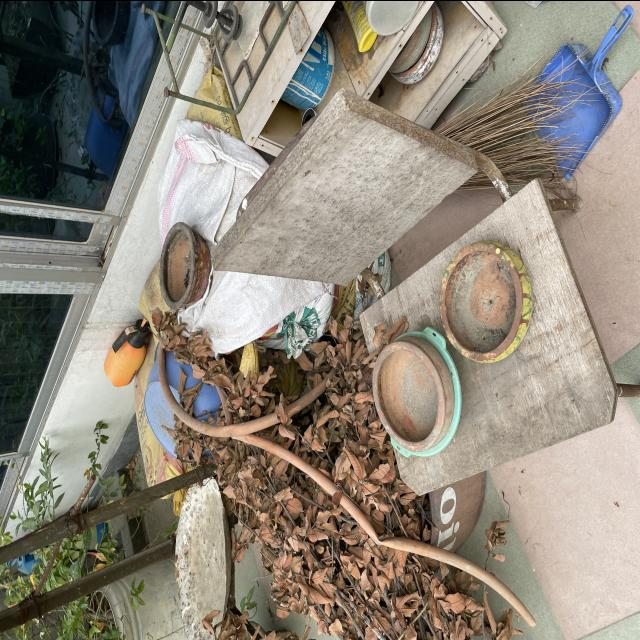Breeding Place: (528, 15, 627, 178), (440, 242, 530, 364), (374, 343, 456, 444), (158, 225, 208, 306)
